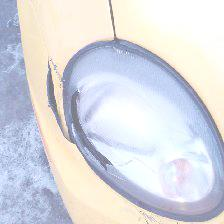head_lamp: (18, 59, 125, 197)
